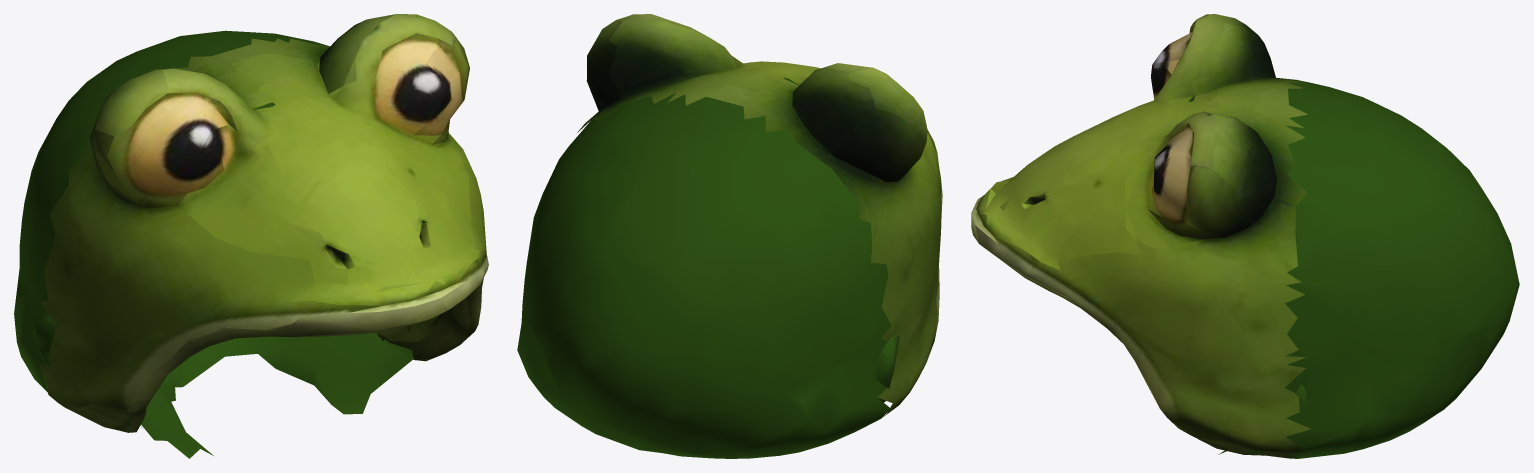
The model's file is frog.glb.
The picture shows the model from 3 angles, left to right: view 1: azimuth 30°, elevation 25°; view 2: azimuth 150°, elevation 25°; view 3: azimuth 270°, elevation 25°; orthographic projection. The views are drawn at different scales.
Parts seen in each view (by area): view 1: geometry_0, HoodAnatomicalLining; view 2: geometry_0, HoodAnatomicalLining; view 3: geometry_0.
Part boxes in pixels (box(x1,y1,x2,y2)): geometry_0: box(14, 14, 488, 432); HoodAnatomicalLining: box(33, 102, 413, 458); geometry_0: box(517, 14, 942, 458); HoodAnatomicalLining: box(783, 77, 899, 402); geometry_0: box(971, 14, 1519, 458).
Size of the model in its own units: 0.4659 by 0.45 by 0.6329.
2 materials, 1 textured.
